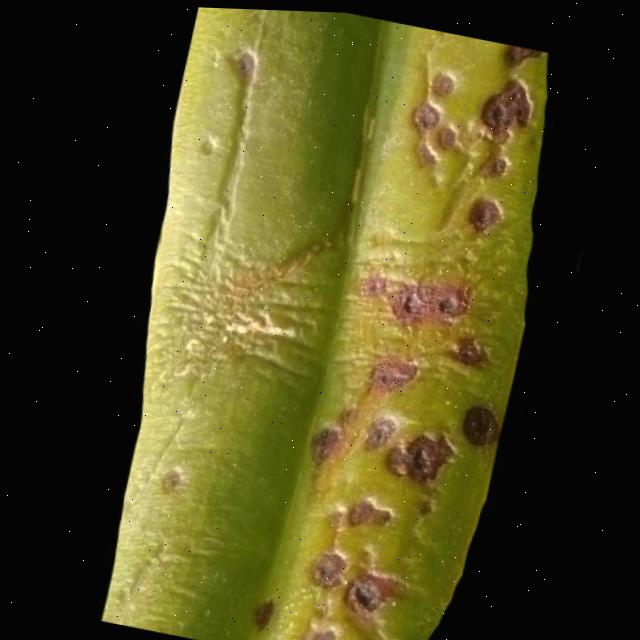mite: (310, 367, 512, 498), (451, 384, 520, 455), (477, 69, 539, 137), (454, 178, 517, 244), (407, 427, 457, 480), (461, 397, 510, 446), (351, 488, 403, 530), (314, 542, 358, 589), (465, 189, 508, 235), (451, 327, 497, 366), (312, 418, 350, 465), (352, 573, 394, 613), (367, 409, 405, 451), (502, 40, 548, 68), (411, 93, 446, 129), (481, 145, 513, 178)
